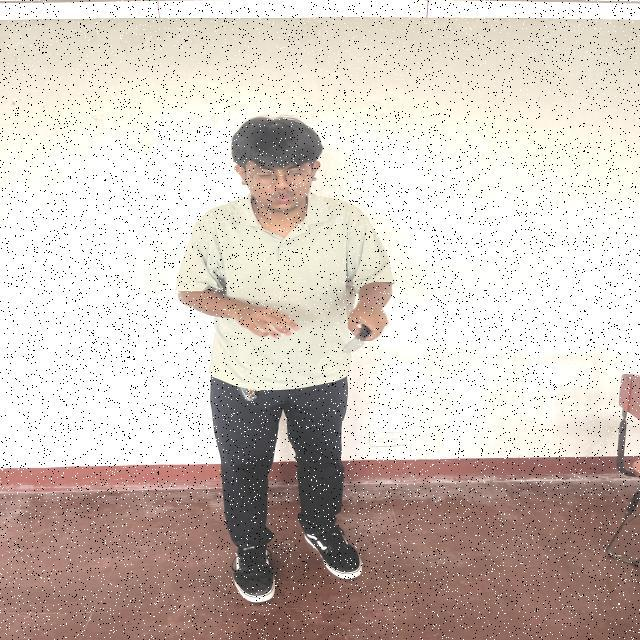knife: (342, 326, 370, 354)
non-violence: (176, 118, 394, 602)
